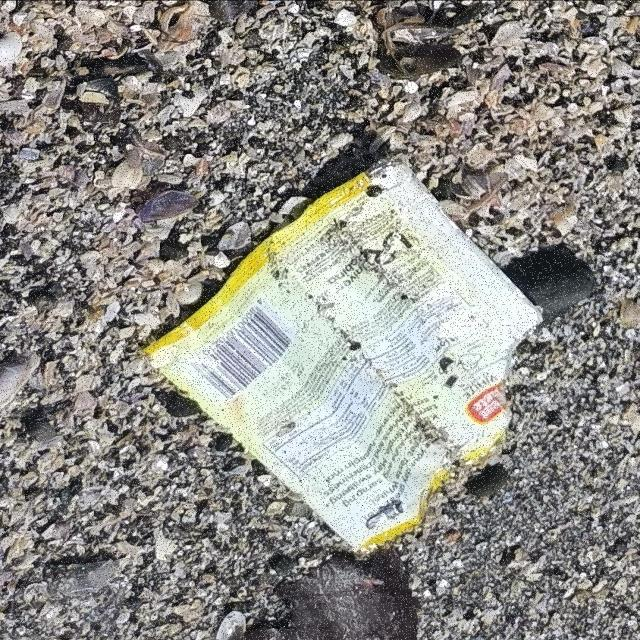plastic_waste: (140, 162, 547, 556)
